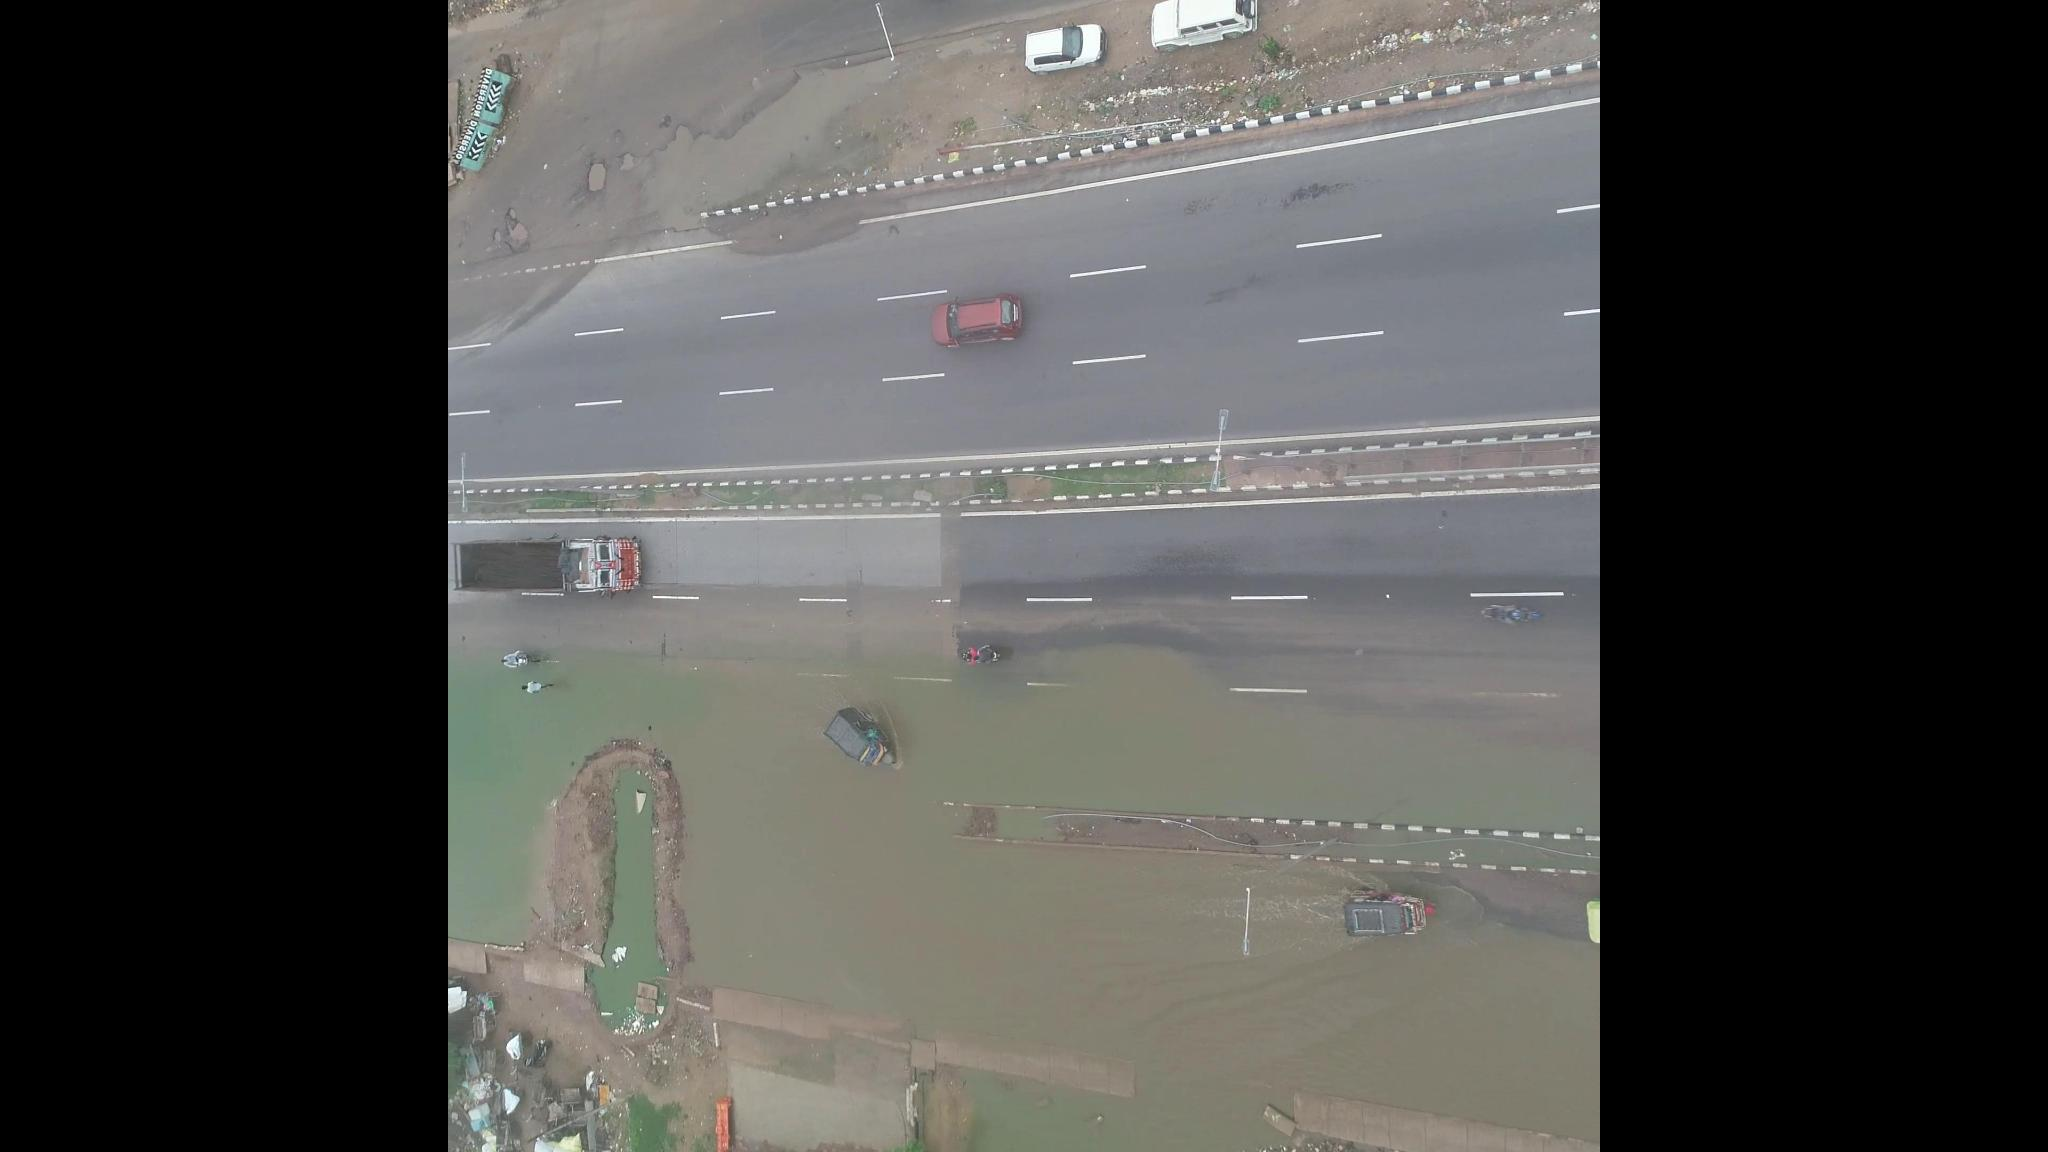Potholes: (470, 186, 546, 263), (556, 124, 609, 217)
Waterlogging: (674, 688, 1093, 1039), (1115, 866, 1584, 1129), (961, 660, 1561, 821)
